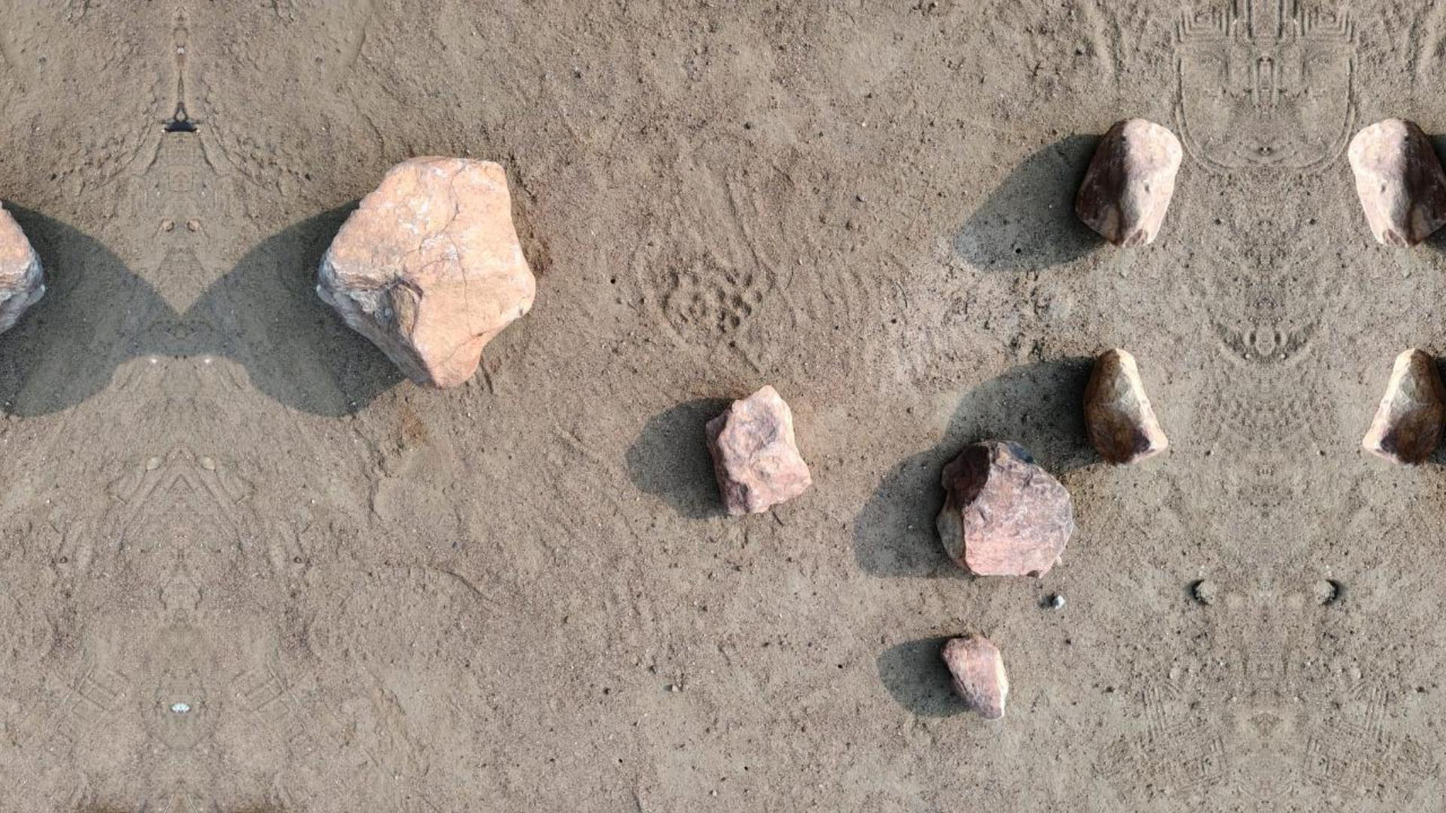rock: (317, 156, 534, 387), (937, 440, 1073, 575), (1074, 119, 1182, 246), (706, 386, 811, 514), (1348, 119, 1445, 245), (1083, 348, 1167, 463), (1362, 348, 1445, 463), (0, 204, 44, 331), (941, 636, 1008, 717)
